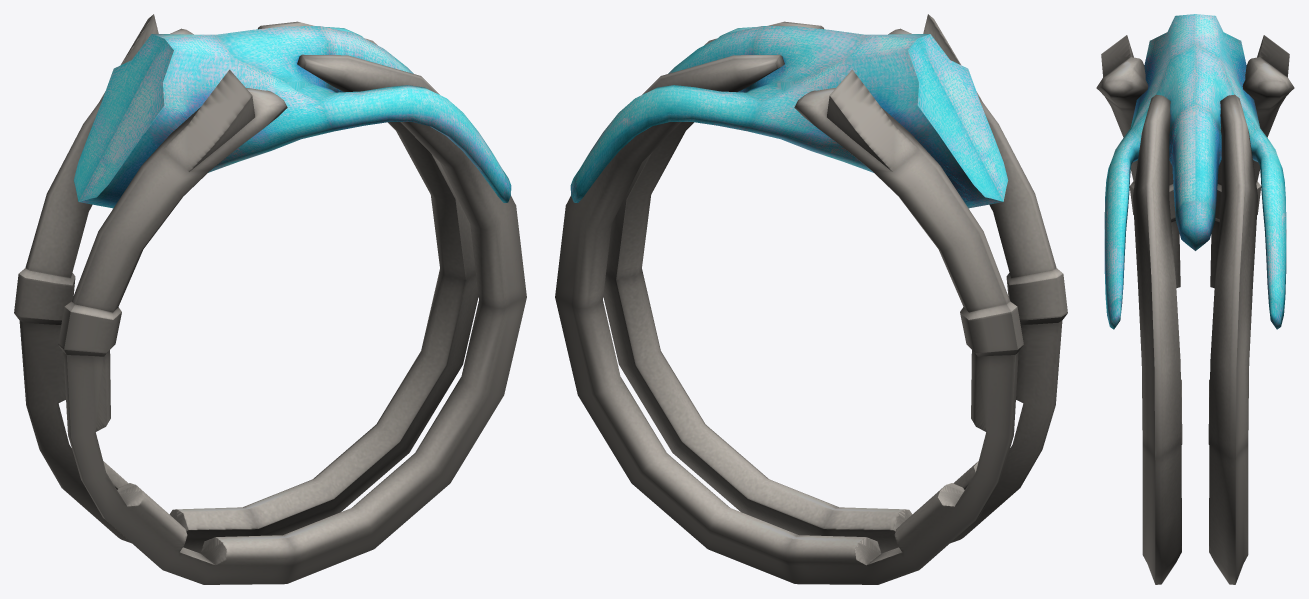
Rendered from titanium_ring.glb.
3 views of the same model, side by side, from view 1: azimuth 30°, elevation 25°; view 2: azimuth 150°, elevation 25°; view 3: azimuth 270°, elevation 25° (orthographic). The views are drawn at different scales.
Parts seen in each view (by area): view 1: Titanium; view 2: Titanium; view 3: Titanium.
Part boxes in pixels (<box>): Titanium: <box>14,14,526,584</box>; Titanium: <box>555,14,1067,584</box>; Titanium: <box>1096,14,1294,584</box>.
Bounding box in the file's own units: 0.0219 × 0.0249 × 0.00895.
Materials: 1 (1 with a texture image).
